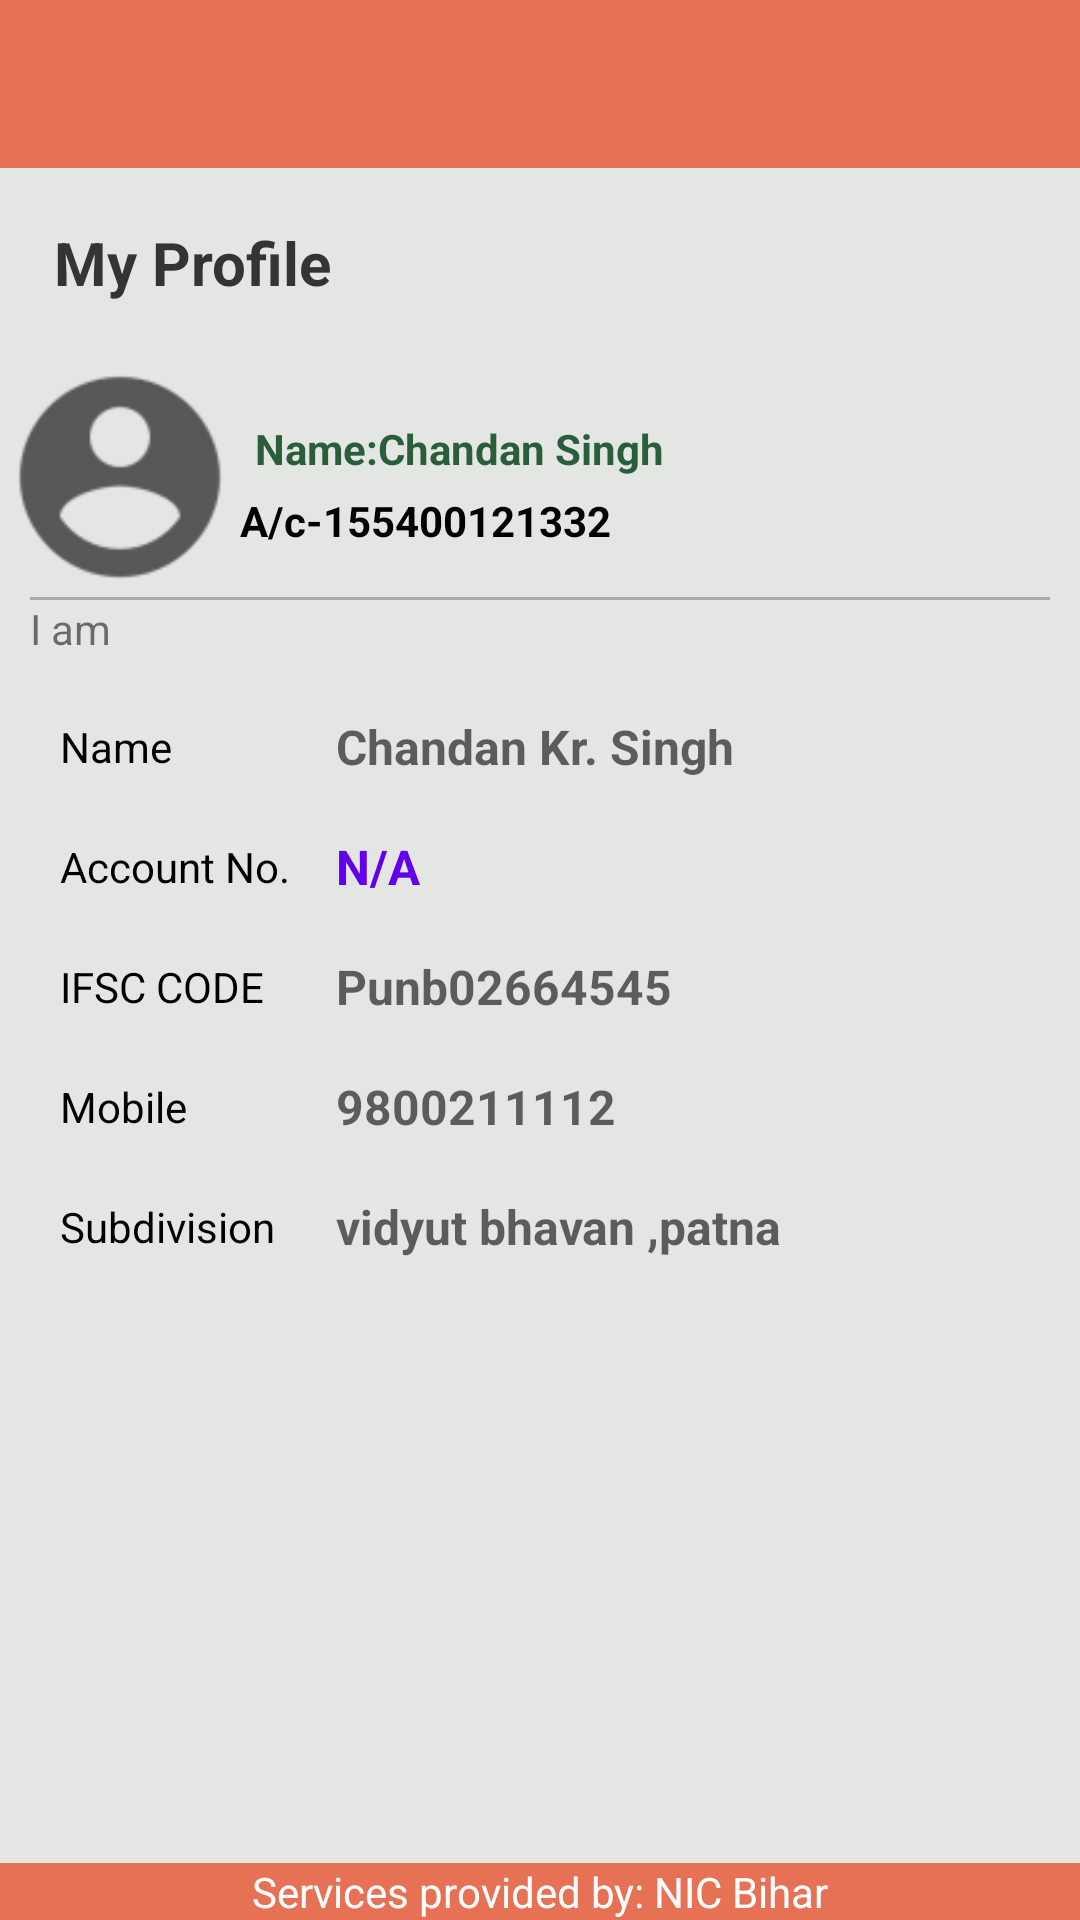

Named icons in this screenshot (1080 × 1920) and their centers, [x,y]:
user: [120,477]
